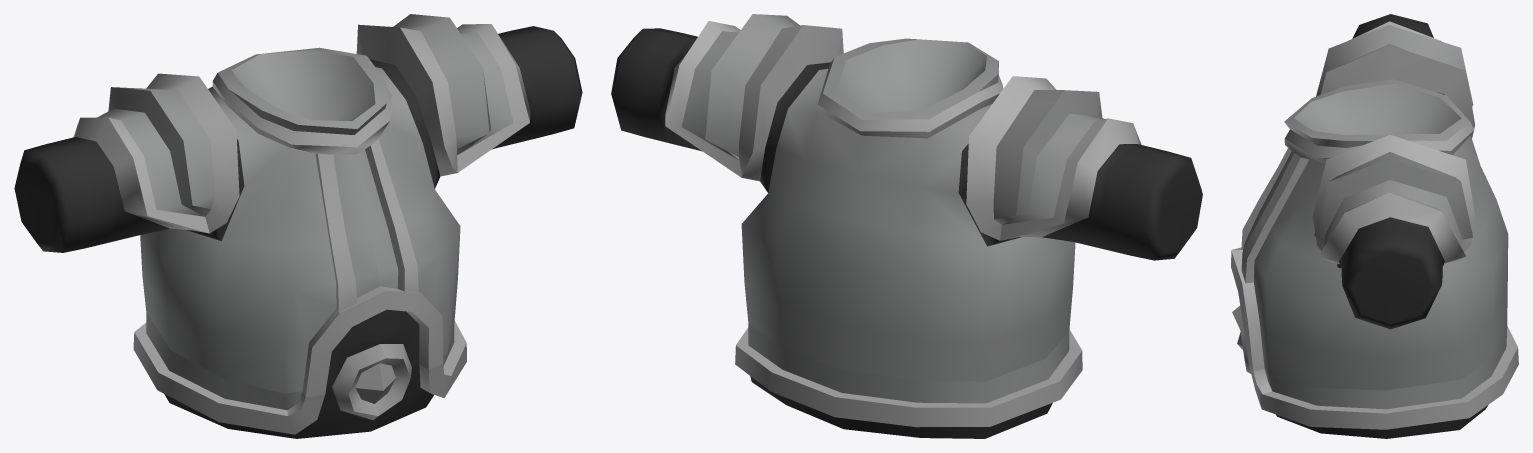
File: Top_11.fbx
3 renders of one model, left to right at view 1: azimuth 30°, elevation 25°; view 2: azimuth 150°, elevation 25°; view 3: azimuth 270°, elevation 25°, orthographic. The views are drawn at different scales.
Parts seen in each view (by area): view 1: Top_11; view 2: Top_11; view 3: Top_11.
Part boxes in pixels (<box>): Top_11: <box>14,14,582,438</box>; Top_11: <box>611,14,1202,438</box>; Top_11: <box>1231,14,1518,438</box>.
Bounding box in the file's own units: 81.36 × 48.53 × 42.31.
